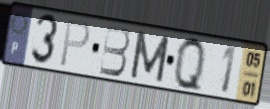1: (219, 43, 238, 96)
3: (28, 13, 62, 67)
B: (97, 23, 131, 78)
M: (128, 29, 172, 85)
P: (57, 18, 92, 69)
Q: (173, 34, 207, 96)
